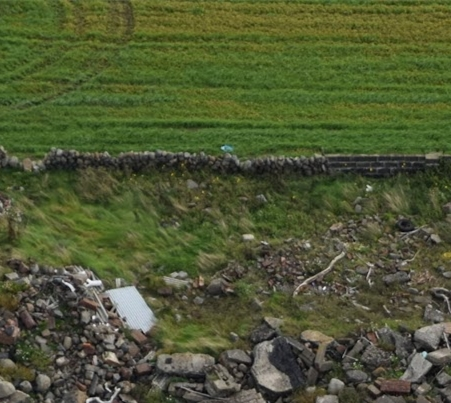cuboid: (104, 280, 165, 338)
straight_bar: (292, 249, 347, 301)
together_barrel: (65, 266, 125, 366)
white_in_green: (384, 199, 431, 247), (206, 130, 252, 169)
